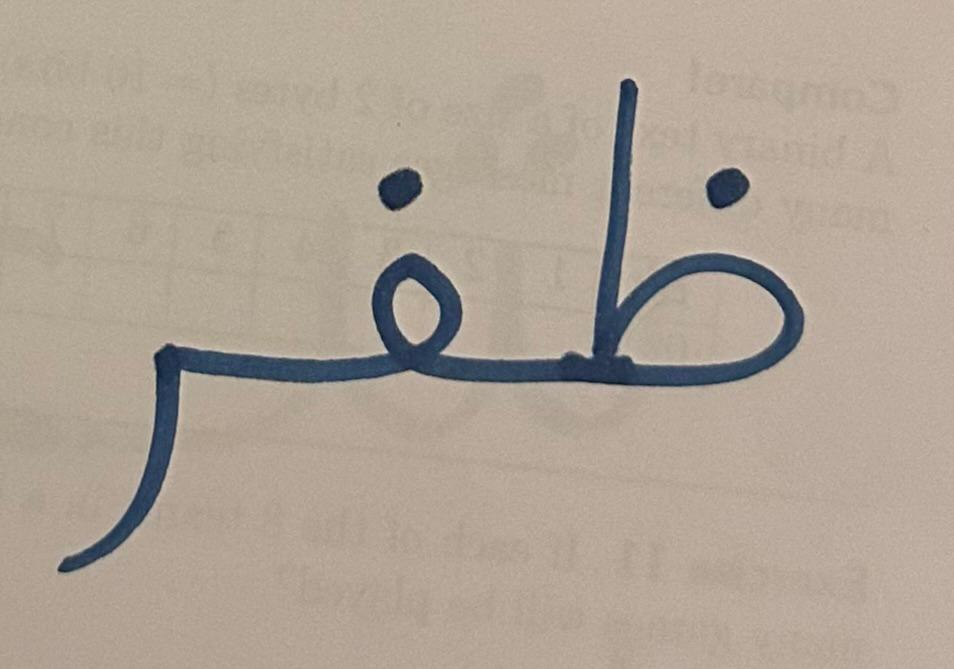feh: (257, 69, 500, 482)
sad: (7, 221, 255, 632)
zain: (506, 47, 844, 493)
